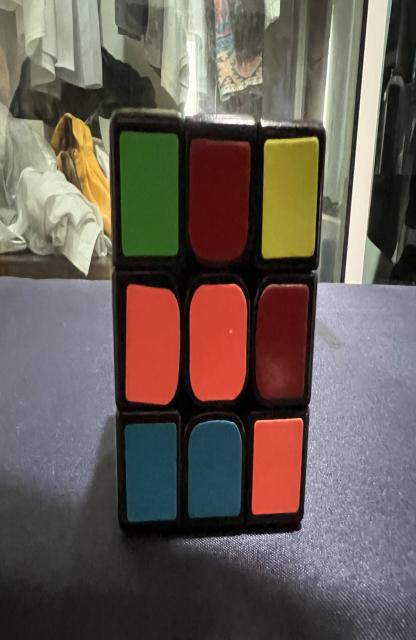Blue: (188, 420, 242, 518), (125, 422, 177, 522)
Green: (119, 132, 179, 257)
Orange: (189, 283, 248, 402), (125, 283, 180, 405), (252, 418, 303, 515)
Red: (188, 138, 250, 262), (255, 283, 309, 400)
Yellow: (262, 137, 319, 260)
